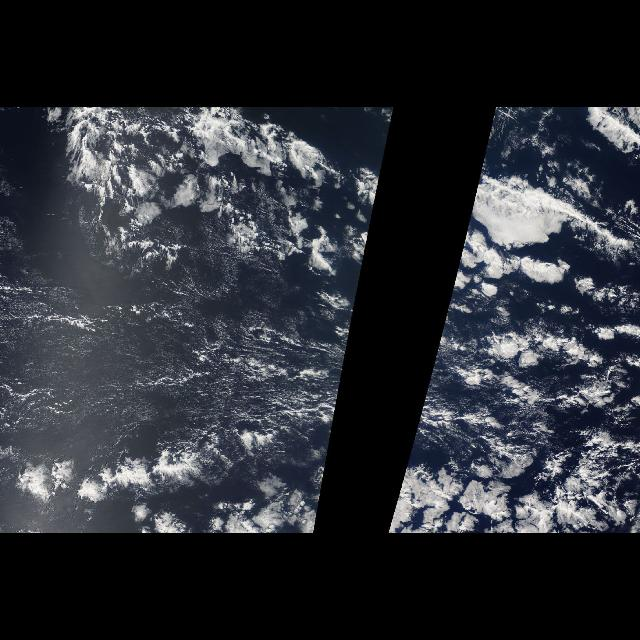Flower: (2, 423, 334, 533), (388, 423, 636, 533)
Sugar: (5, 278, 332, 417)
